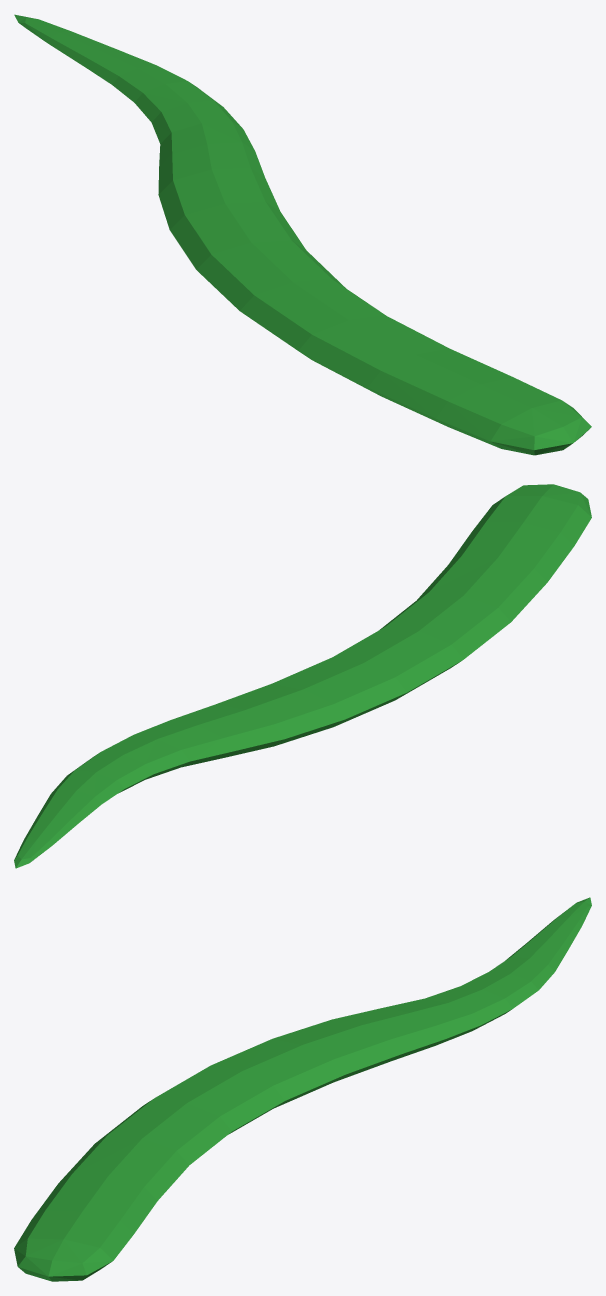
The model's file is SM_Grass_04.fbx.
The picture shows the model from 3 angles, top to bottom: view 1: azimuth 30°, elevation 25°; view 2: azimuth 150°, elevation 25°; view 3: azimuth 330°, elevation 25°; orthographic projection. The views are drawn at different scales.
Visible parts, largest first — view 1: SM_Grass_04; view 2: SM_Grass_04; view 3: SM_Grass_04.
Part boxes in pixels (x1,y1,x2,y2): SM_Grass_04: (14,14,591,455); SM_Grass_04: (14,484,591,868); SM_Grass_04: (14,897,591,1281).
Size of the model in its own units: 150 by 29.53 by 5.02.
